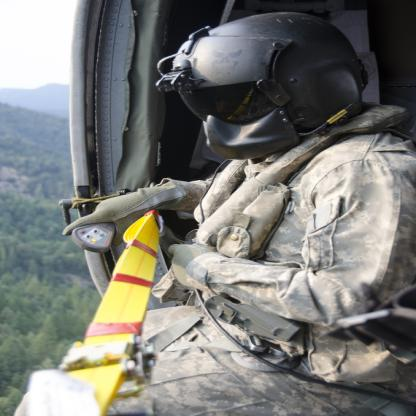Helmet: (160, 15, 368, 156)
